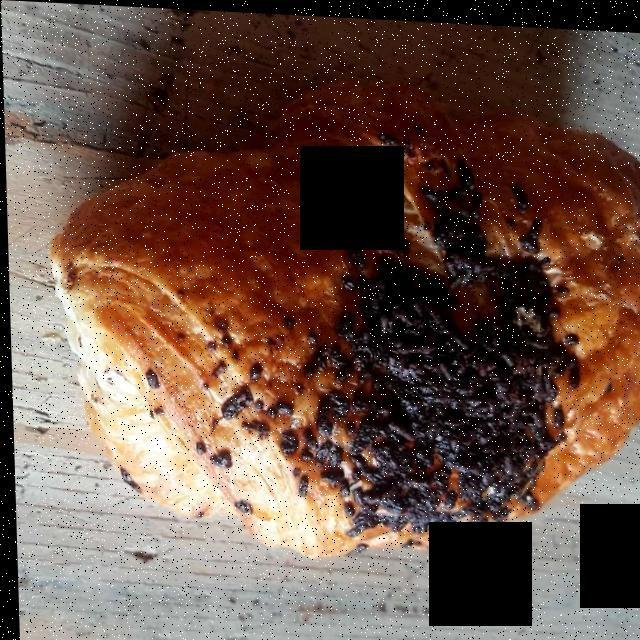bread: (53, 88, 633, 547)
